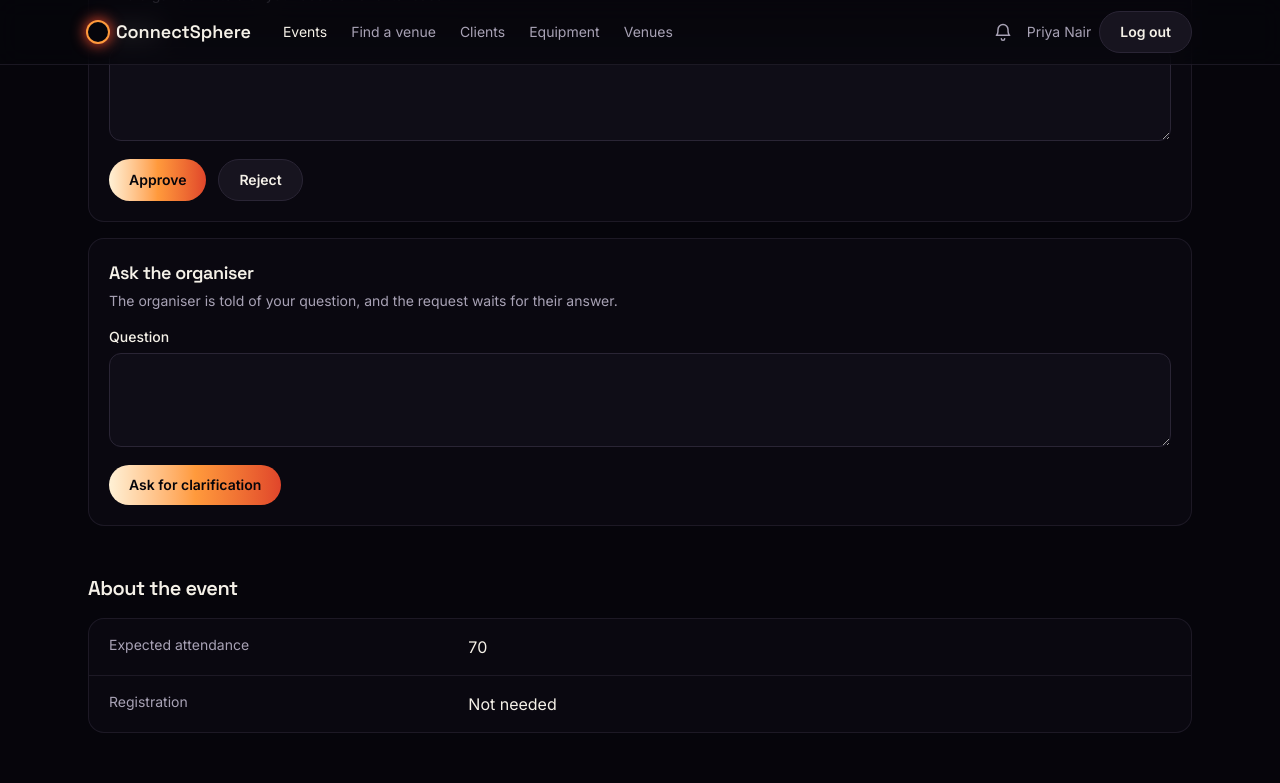
Test: SCRUM-32 AC1, AC4 asking the organiser a question › no longer offers a question or an approval once one is outstanding (AC3)
(page scrolled)
In the text box labelled "Question": [640, 400] box [109,353,1171,447], type "Is the room step-free?"
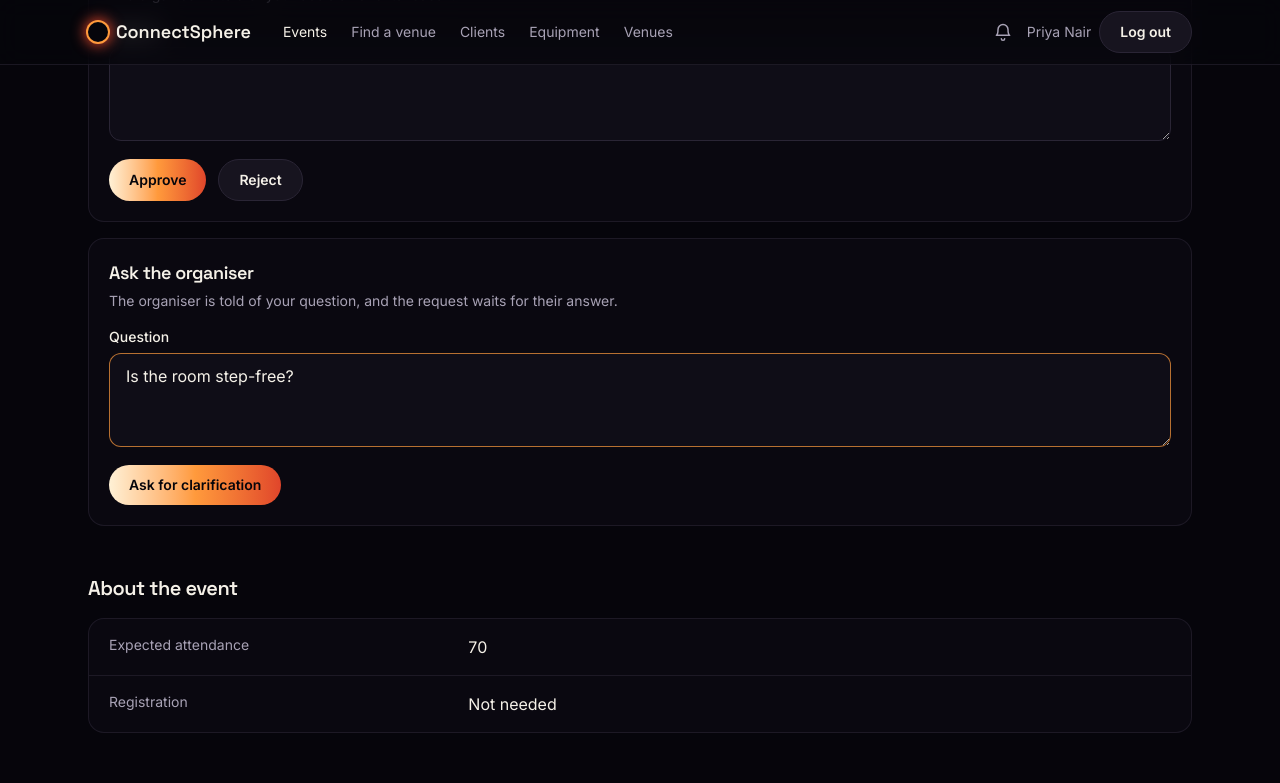
Click the button "Ask for clarification": [195, 485] box [109,465,281,505]
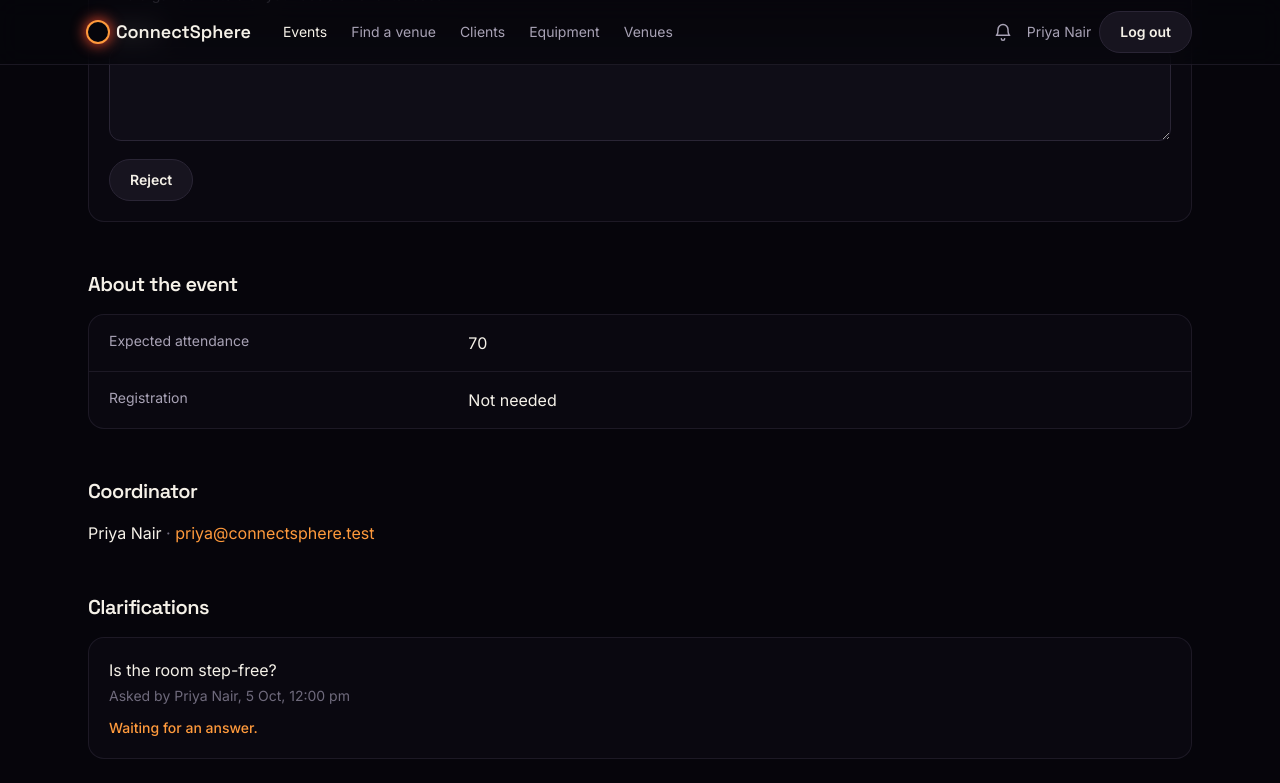
Expected: the button "Reject" is shown, [109,159,193,201]
Result: the text labelled "question" is gone
Result: the button "Approve" is gone
